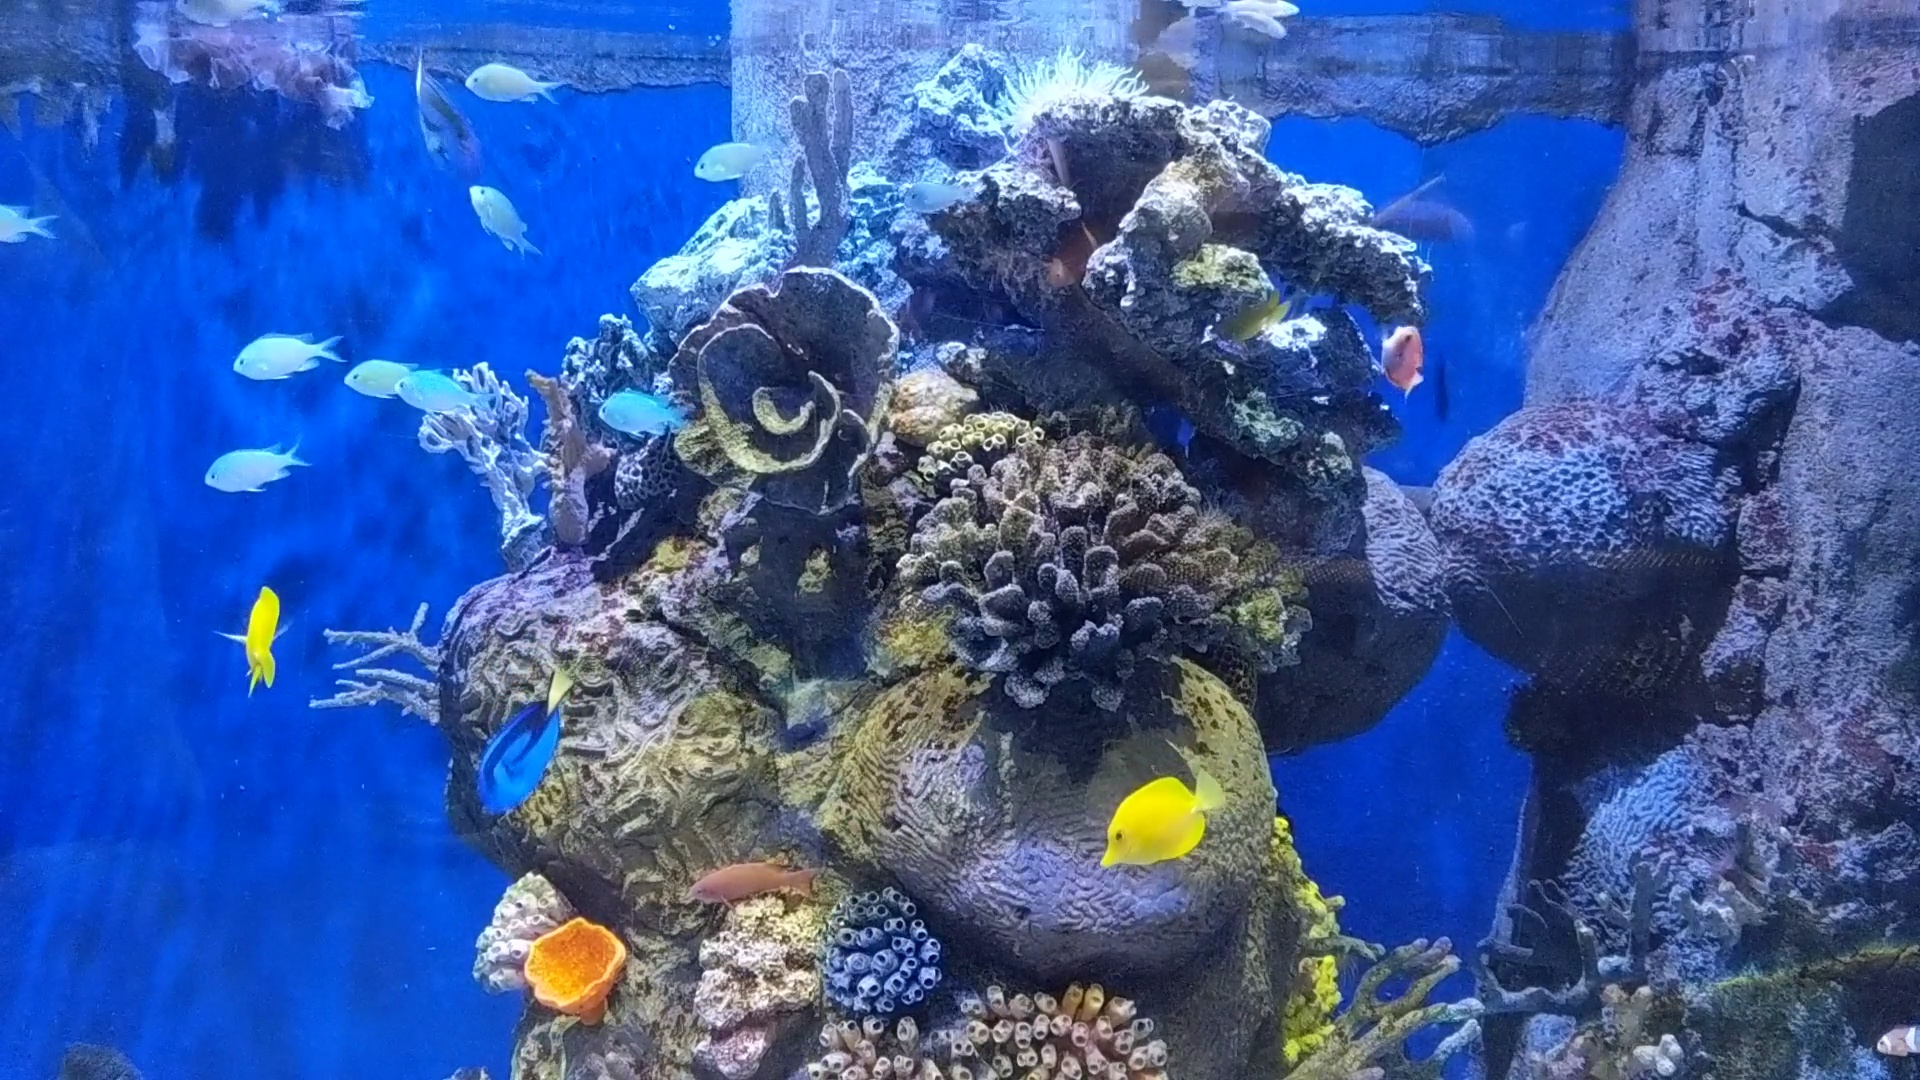blue tang surgeonfish: (464, 658, 578, 822), (410, 57, 480, 167)
damselfish: (456, 45, 558, 123), (398, 356, 506, 425), (593, 382, 691, 456), (225, 324, 340, 384), (688, 127, 785, 191), (196, 442, 302, 496), (469, 191, 534, 258), (328, 349, 410, 396)
pink fish: (1374, 310, 1432, 402)
saddle butterfly fish: (1085, 748, 1236, 893), (225, 585, 286, 692)
